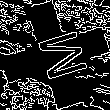M_W: (24, 25, 86, 85)
